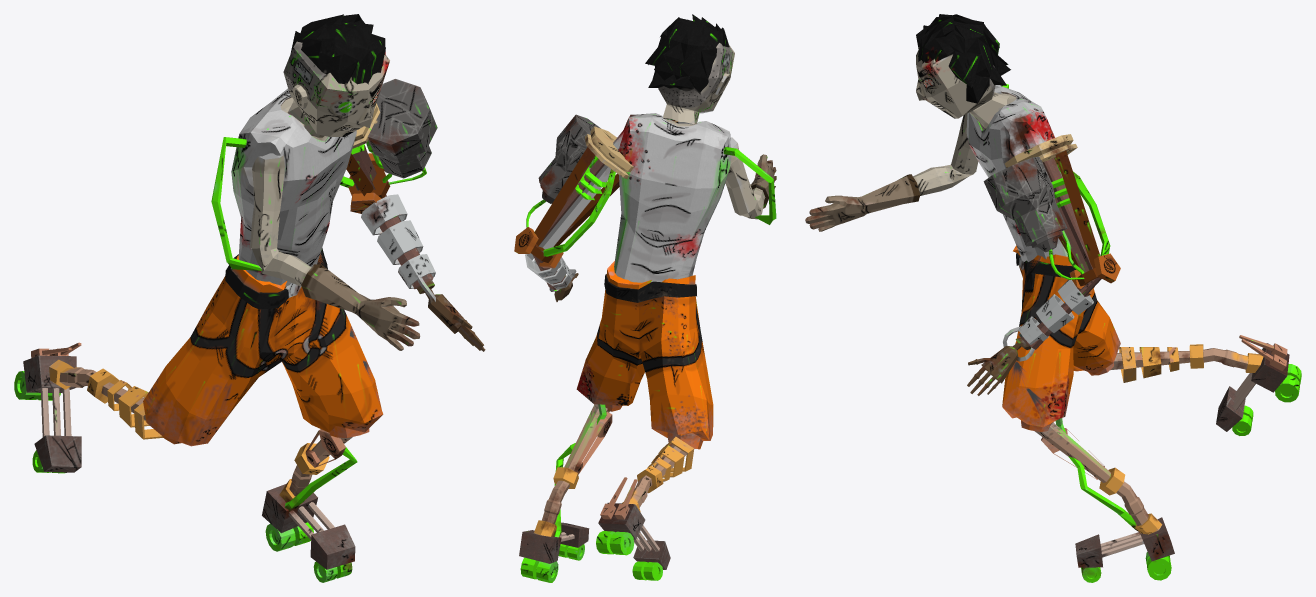
File: CyborgFINALAnimation_000023.obj
The picture shows the model from 3 angles, left to right: view 1: azimuth 30°, elevation 25°; view 2: azimuth 150°, elevation 25°; view 3: azimuth 270°, elevation 25°; orthographic projection. The views are drawn at different scales.
Visible parts, largest first — view 1: CyborgMesh_Cube.002; view 2: CyborgMesh_Cube.002; view 3: CyborgMesh_Cube.002.
Boxes of the visible parts, <box> form: CyborgMesh_Cube.002: <box>14,14,485,582</box>; CyborgMesh_Cube.002: <box>514,14,776,582</box>; CyborgMesh_Cube.002: <box>805,14,1301,582</box>.
Bounding box in the file's own units: 4.08 × 8.71 × 7.38.
